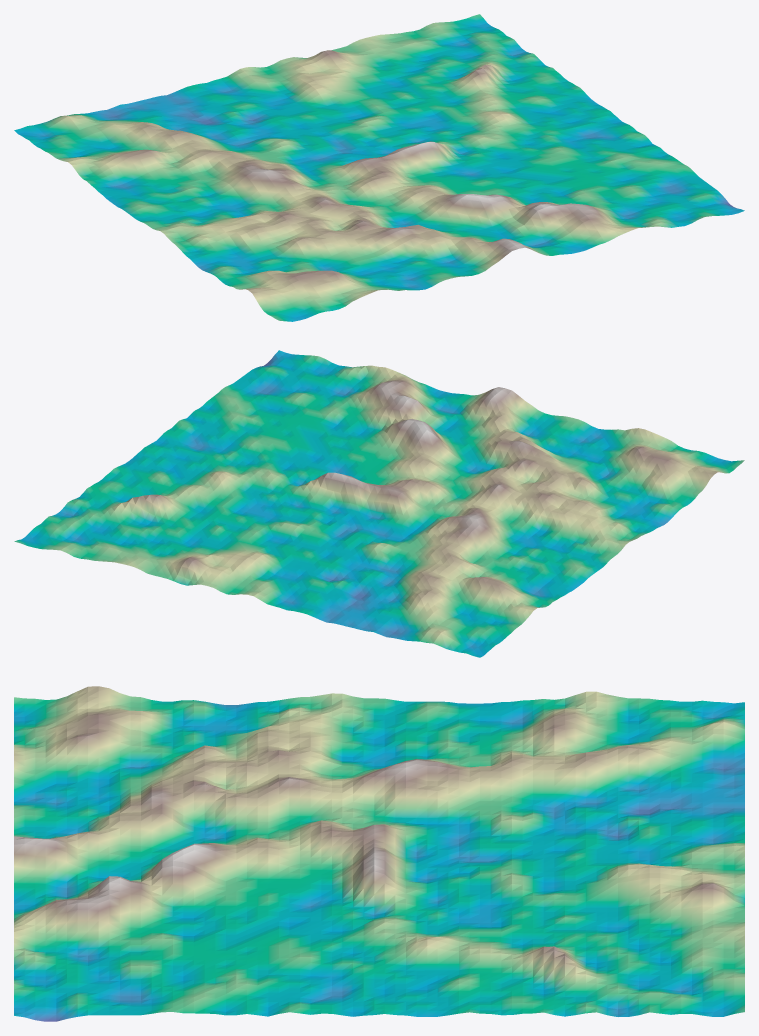
The model's file is 000007_terrain_only.glb.
The picture shows the model from 3 angles, top to bottom: view 1: azimuth 30°, elevation 25°; view 2: azimuth 150°, elevation 25°; view 3: azimuth 270°, elevation 25°; orthographic projection. The views are drawn at different scales.
Parts seen in each view (by area): view 1: terrain; view 2: terrain; view 3: terrain.
Boxes of the visible parts, x1,y1,x2,y2 form: terrain: (14,14,744,321); terrain: (14,350,744,657); terrain: (14,686,744,1021).
Bounding box in the file's own units: 0.0189 × 0.000948 × 0.0186.
